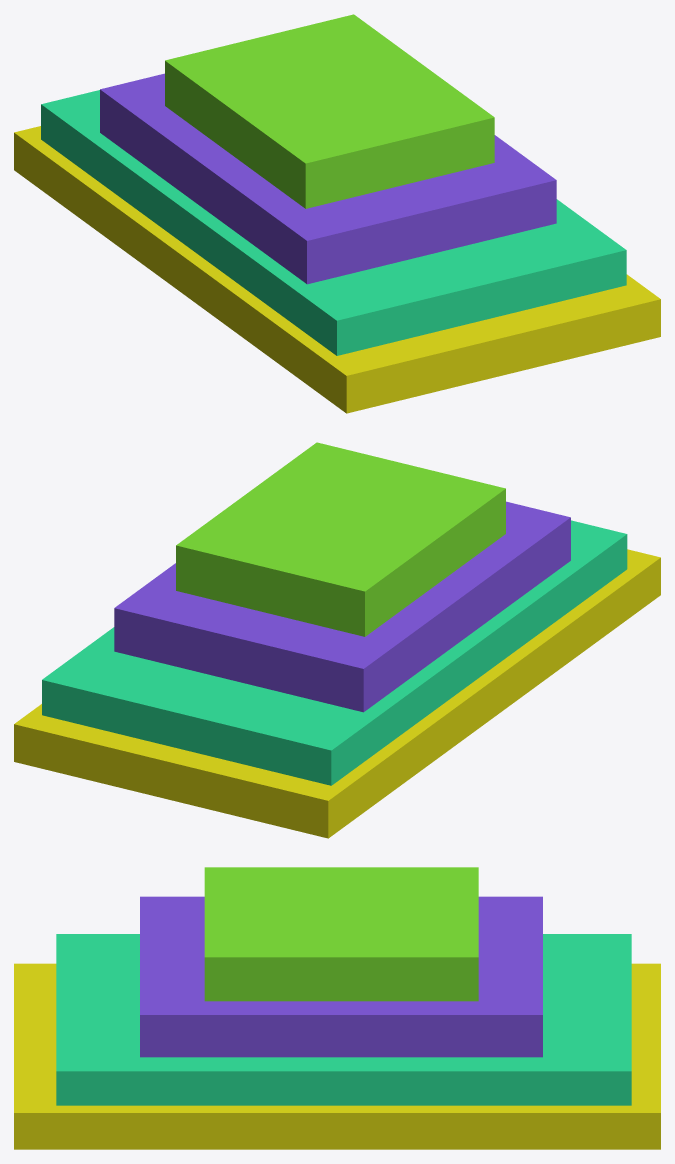
3 views of the same model, one above another, from view 1: azimuth 30°, elevation 25°; view 2: azimuth 150°, elevation 25°; view 3: azimuth 270°, elevation 25° (orthographic). The views are drawn at different scales.
Visible parts, largest first — view 1: Cube.003, Cube.001, Cube, Cube.002; view 2: Cube.003, Cube.001, Cube.002, Cube; view 3: Cube.001, Cube, Cube.003, Cube.002.
Boxes of the visible parts, left/top/right/bottom form: Cube.003: left=165, top=14, right=494, bottom=208; Cube.001: left=41, top=90, right=626, bottom=355; Cube: left=14, top=126, right=660, bottom=413; Cube.002: left=100, top=73, right=556, bottom=284; Cube.003: left=176, top=442, right=505, bottom=636; Cube.001: left=42, top=520, right=627, bottom=785; Cube.002: left=114, top=501, right=570, bottom=712; Cube: left=14, top=549, right=660, bottom=838; Cube.001: left=56, top=934, right=631, bottom=1105; Cube: left=14, top=963, right=660, bottom=1149; Cube.003: left=204, top=867, right=478, bottom=1001; Cube.002: left=140, top=896, right=542, bottom=1057.
Bounding box in the file's own units: 5.71 × 2.85 × 10.45.
